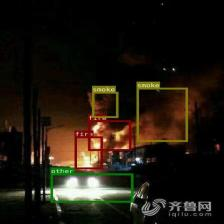fire: (88, 120, 130, 150), (74, 136, 102, 169)
smoke: (136, 88, 188, 142), (92, 92, 118, 118)
